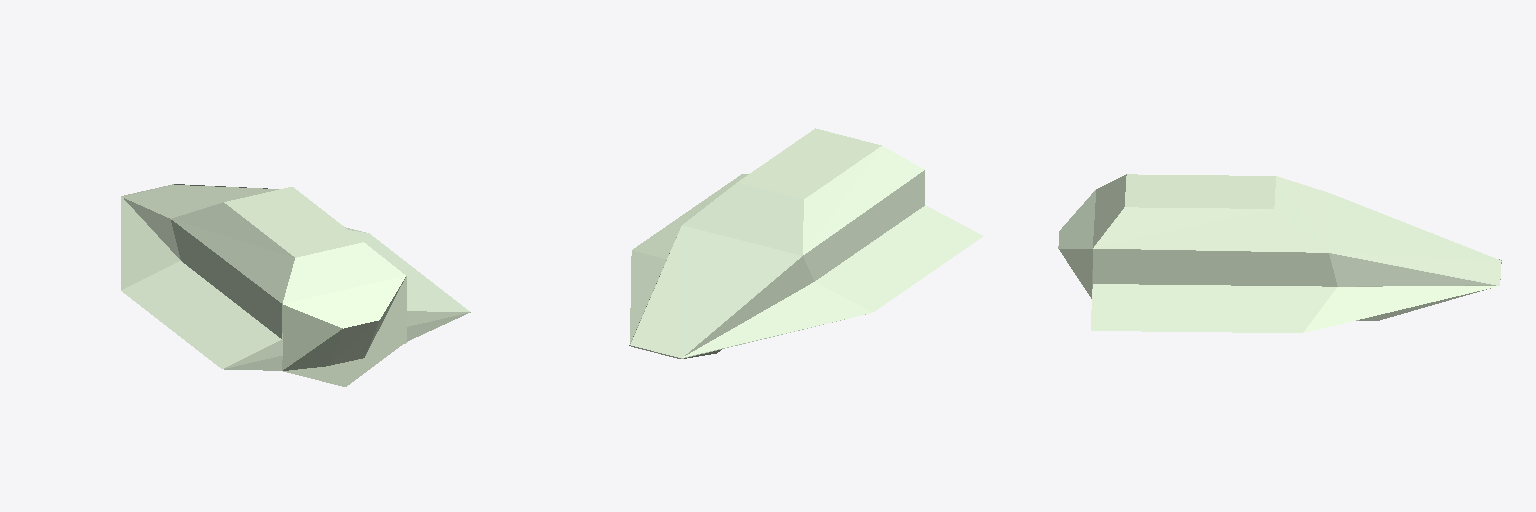
File: player.obj
3 renders of one model, left to right at view 1: azimuth 30°, elevation 25°; view 2: azimuth 150°, elevation 25°; view 3: azimuth 270°, elevation 25°, orthographic.
Parts seen in each view (by area): view 1: Cube; view 2: Cube; view 3: Cube.
Part boxes in pixels (bbox=[...]): Cube: bbox=[121, 184, 470, 386]; Cube: bbox=[629, 128, 982, 358]; Cube: bbox=[1058, 174, 1501, 332].
Bounding box in the file's own units: 4.1 × 1.99 × 6.3.